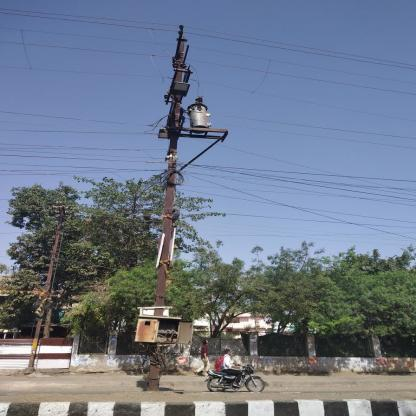Electrical Pole: (128, 22, 239, 397)
